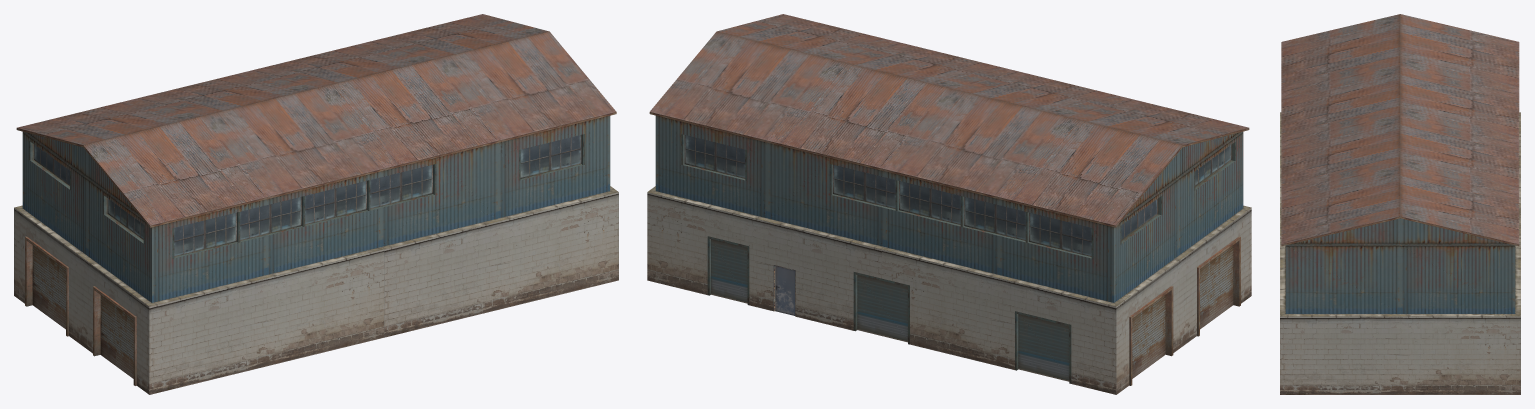
The model's file is Hangar_v5_6.FBX.
3 renders of one model, left to right at view 1: azimuth 30°, elevation 25°; view 2: azimuth 150°, elevation 25°; view 3: azimuth 270°, elevation 25°, orthographic. The views are drawn at different scales.
Visible parts, largest first — view 1: Hangar_v5_6, Hangar_v5_6_inside, Hangar_v5_6_door4, Hangar_v5_6_door5; view 2: Hangar_v5_6, Hangar_v5_6_door3, Hangar_v5_6_door2, Hangar_v5_6_door1, Hangar_v5_6_door5, Hangar_v5_6_door4, Hangar_v5_6_door6, Hangar_v5_6_inside; view 3: Hangar_v5_6.
Part boxes in pixels (<box>): Hangar_v5_6: <box>14,14,618,394</box>; Hangar_v5_6_inside: <box>34,135,581,256</box>; Hangar_v5_6_door4: <box>32,245,65,329</box>; Hangar_v5_6_door5: <box>100,295,133,378</box>; Hangar_v5_6: <box>647,14,1251,394</box>; Hangar_v5_6_door3: <box>1018,314,1069,381</box>; Hangar_v5_6_door2: <box>857,275,907,342</box>; Hangar_v5_6_door1: <box>711,239,747,303</box>; Hangar_v5_6_door5: <box>1200,245,1233,329</box>; Hangar_v5_6_door4: <box>1132,295,1165,378</box>; Hangar_v5_6_door6: <box>775,266,794,315</box>; Hangar_v5_6_inside: <box>964,145,1231,237</box>; Hangar_v5_6: <box>1280,14,1520,394</box>.
Bounding box in the file's own units: 26.59 × 10.78 × 13.23.
